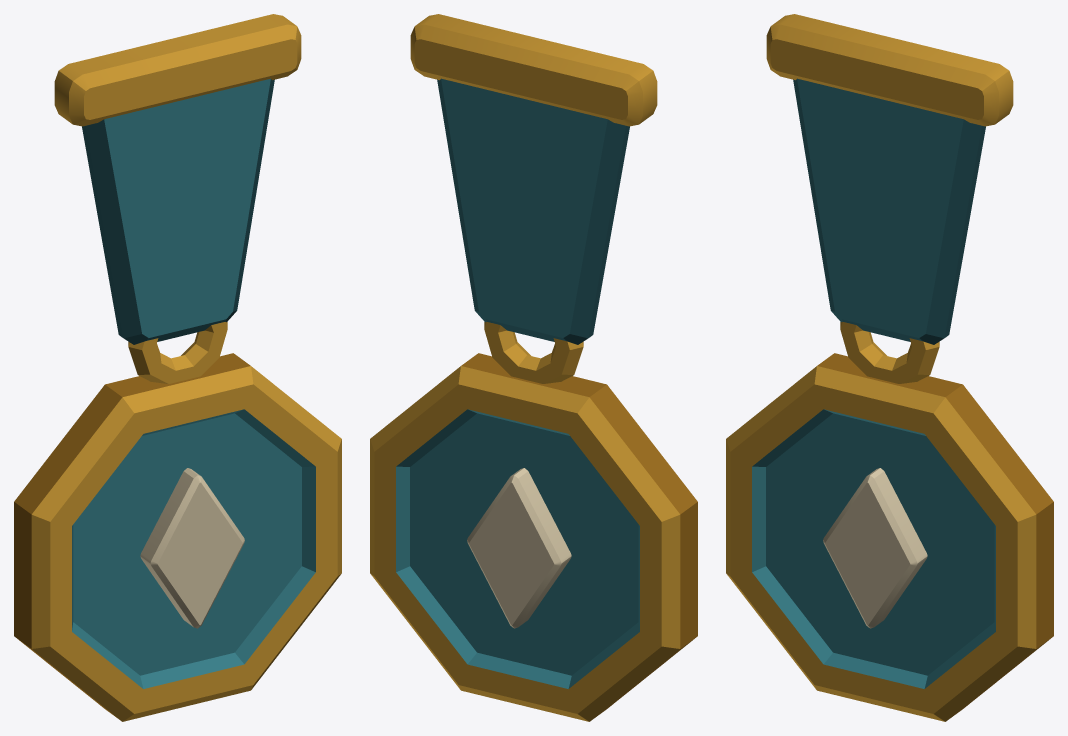
Rendered from Medal_19.glb.
3 views of the same model, side by side, from view 1: azimuth 30°, elevation 25°; view 2: azimuth 150°, elevation 25°; view 3: azimuth 330°, elevation 25° (orthographic).
Parts seen in each view (by area): view 1: Medal_19; view 2: Medal_19; view 3: Medal_19.
Part boxes in pixels (left/top/right/bottom): Medal_19: left=14, top=14, right=341, bottom=721; Medal_19: left=370, top=14, right=697, bottom=721; Medal_19: left=726, top=14, right=1053, bottom=721.
Size of the model in its own units: 1.12 by 2.27 by 0.28.
